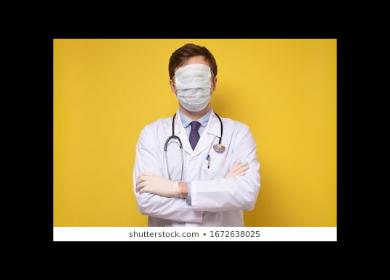mask_weared_incorrect: (168, 67, 218, 112)
